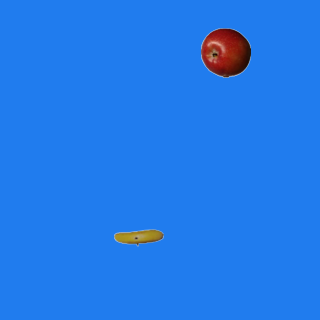Apple Braeburn: (200, 27, 250, 77)
Banana: (113, 212, 163, 262)
